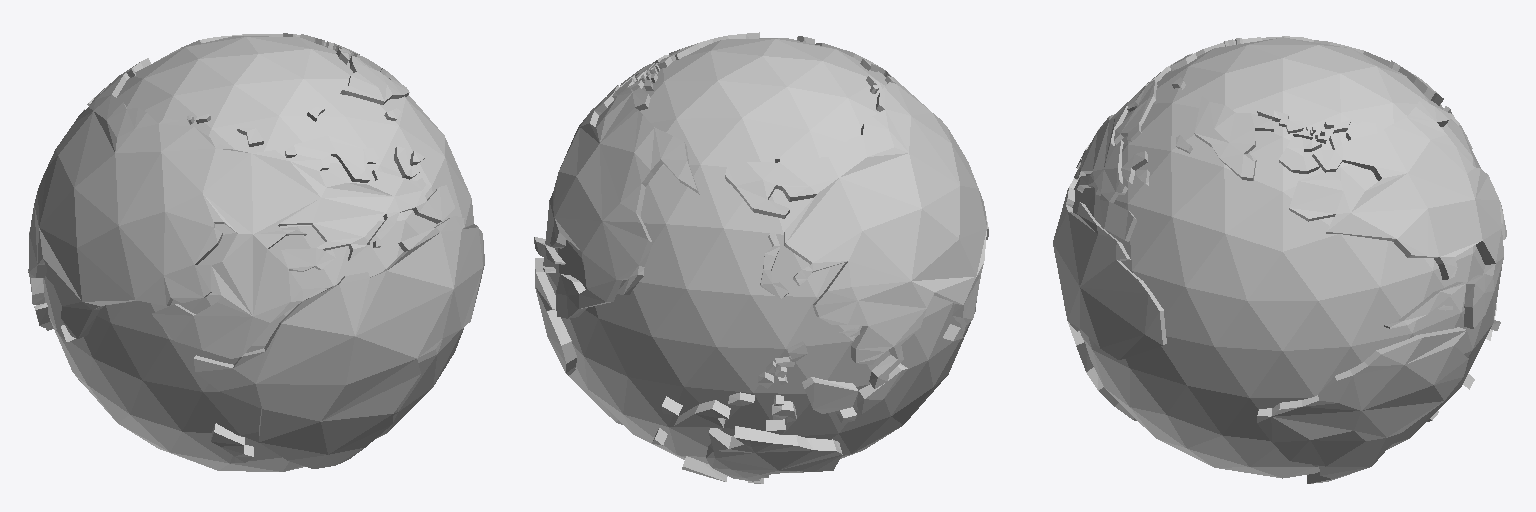
Rendered from earth.obj.
3 views of the same model, side by side, from view 1: azimuth 30°, elevation 25°; view 2: azimuth 150°, elevation 25°; view 3: azimuth 270°, elevation 25° (orthographic).
Visible parts, largest first — view 1: GeoSphere004; view 2: GeoSphere004; view 3: GeoSphere004.
Part boxes in pixels (x1,y1,x2,y2): GeoSphere004: (28,33,484,471); GeoSphere004: (534,32,988,483); GeoSphere004: (1053,36,1506,483).
Size of the model in its own units: 575 by 563 by 580.